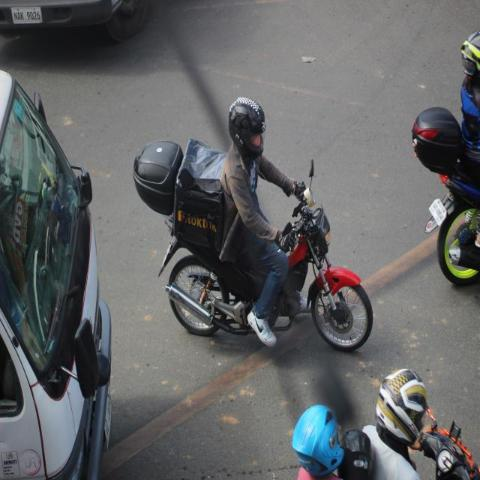motorcycle: (132, 94, 375, 353)
truck: (0, 66, 117, 479)
